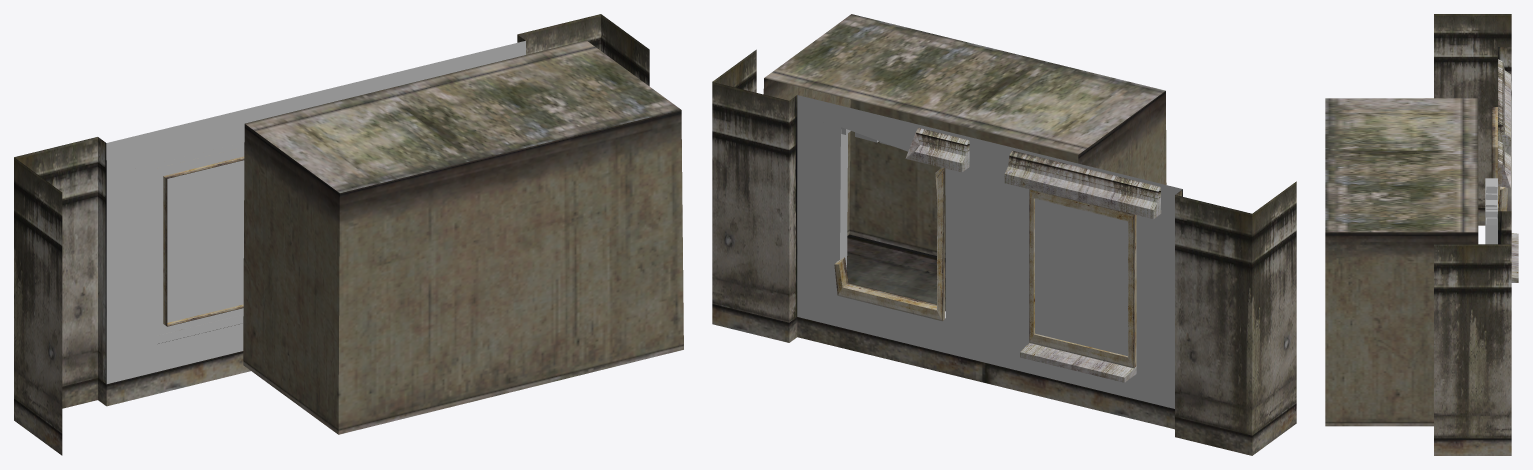
The model's file is Store_front_3_C.fbx.
The picture shows the model from 3 angles, left to right: view 1: azimuth 30°, elevation 25°; view 2: azimuth 150°, elevation 25°; view 3: azimuth 270°, elevation 25°; orthographic projection. The views are drawn at different scales.
Visible parts, largest first — view 1: Store_front_3_C; view 2: Store_front_3_C; view 3: Store_front_3_C.
Boxes of the visible parts, left/top/right/bottom form: Store_front_3_C: left=14, top=14, right=683, bottom=455; Store_front_3_C: left=712, top=14, right=1296, bottom=455; Store_front_3_C: left=1325, top=14, right=1518, bottom=455.
Bounding box in the file's own units: 700 × 300 × 249.
